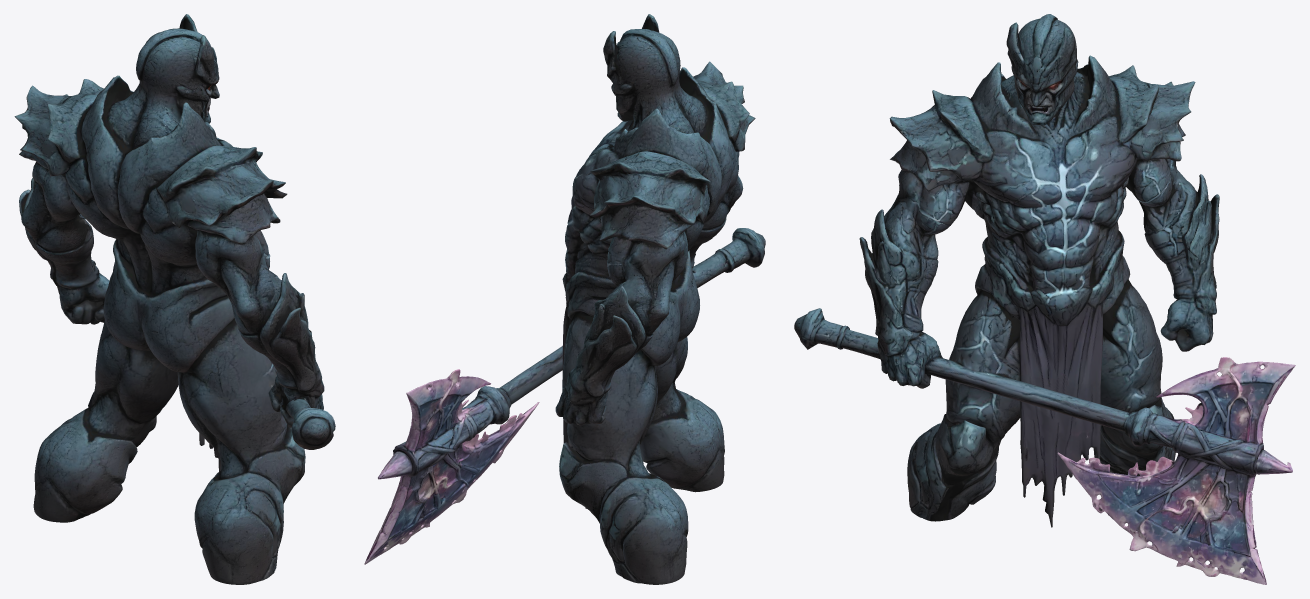
The model's file is terrax.glb.
3 renders of one model, left to right at view 1: azimuth 30°, elevation 25°; view 2: azimuth 150°, elevation 25°; view 3: azimuth 270°, elevation 25°, orthographic. The views are drawn at different scales.
Visible parts, largest first — view 1: tripo_node_187b6266-bf4f-4562-938c-30e7765e819d; view 2: tripo_node_187b6266-bf4f-4562-938c-30e7765e819d; view 3: tripo_node_187b6266-bf4f-4562-938c-30e7765e819d.
Part boxes in pixels (<box>): tripo_node_187b6266-bf4f-4562-938c-30e7765e819d: <box>14,14,335,584</box>; tripo_node_187b6266-bf4f-4562-938c-30e7765e819d: <box>364,14,765,584</box>; tripo_node_187b6266-bf4f-4562-938c-30e7765e819d: <box>794,14,1295,584</box>.
Size of the model in its own units: 0.5699 by 1 by 0.9336.
1 material, 1 textured.
